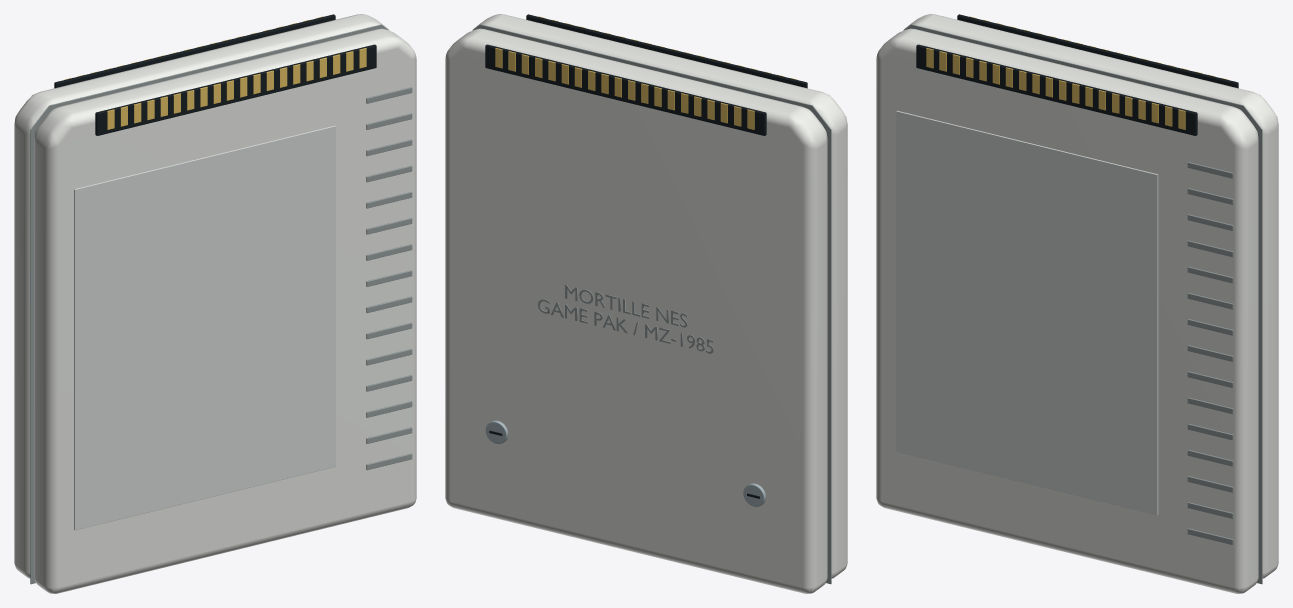
File: nes-media.glb
3 views of the same model, side by side, from view 1: azimuth 30°, elevation 25°; view 2: azimuth 150°, elevation 25°; view 3: azimuth 330°, elevation 25° (orthographic).
Parts seen in each view (by area): view 1: nes-media_Shell; view 2: nes-media_Shell; view 3: nes-media_Shell.
Part boxes in pixels (x1=…): nes-media_Shell: x1=14, y1=14, x2=416, y2=593; nes-media_Shell: x1=445, y1=14, x2=847, y2=593; nes-media_Shell: x1=876, y1=14, x2=1278, y2=593.
Bounding box in the file's own units: 0.98 × 1.2 × 0.2005.
